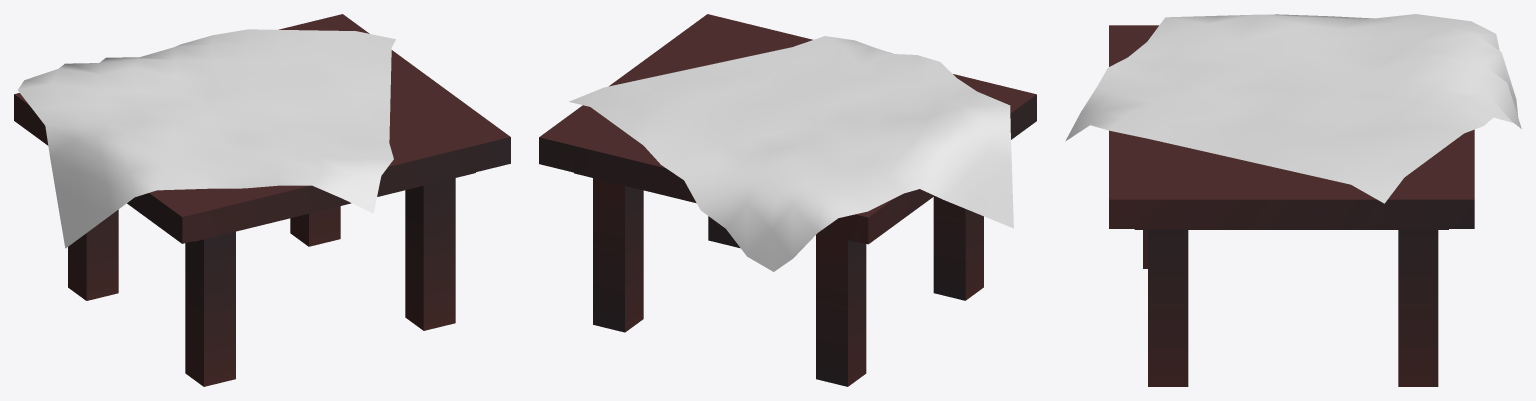
Rendered from mesa_contextura.fbx.
3 views of the same model, side by side, from view 1: azimuth 30°, elevation 25°; view 2: azimuth 150°, elevation 25°; view 3: azimuth 270°, elevation 25° (orthographic). The views are drawn at different scales.
Parts seen in each view (by area): view 1: pCube7; view 2: pCube7; view 3: pCube7.
Boxes of the visible parts, x1=… form: pCube7: x1=14, y1=14, x2=510, y2=386; pCube7: x1=539, y1=14, x2=1036, y2=386; pCube7: x1=1065, y1=14, x2=1521, y2=386.
Size of the model in its own units: 6.56 by 3.39 by 6.16.
